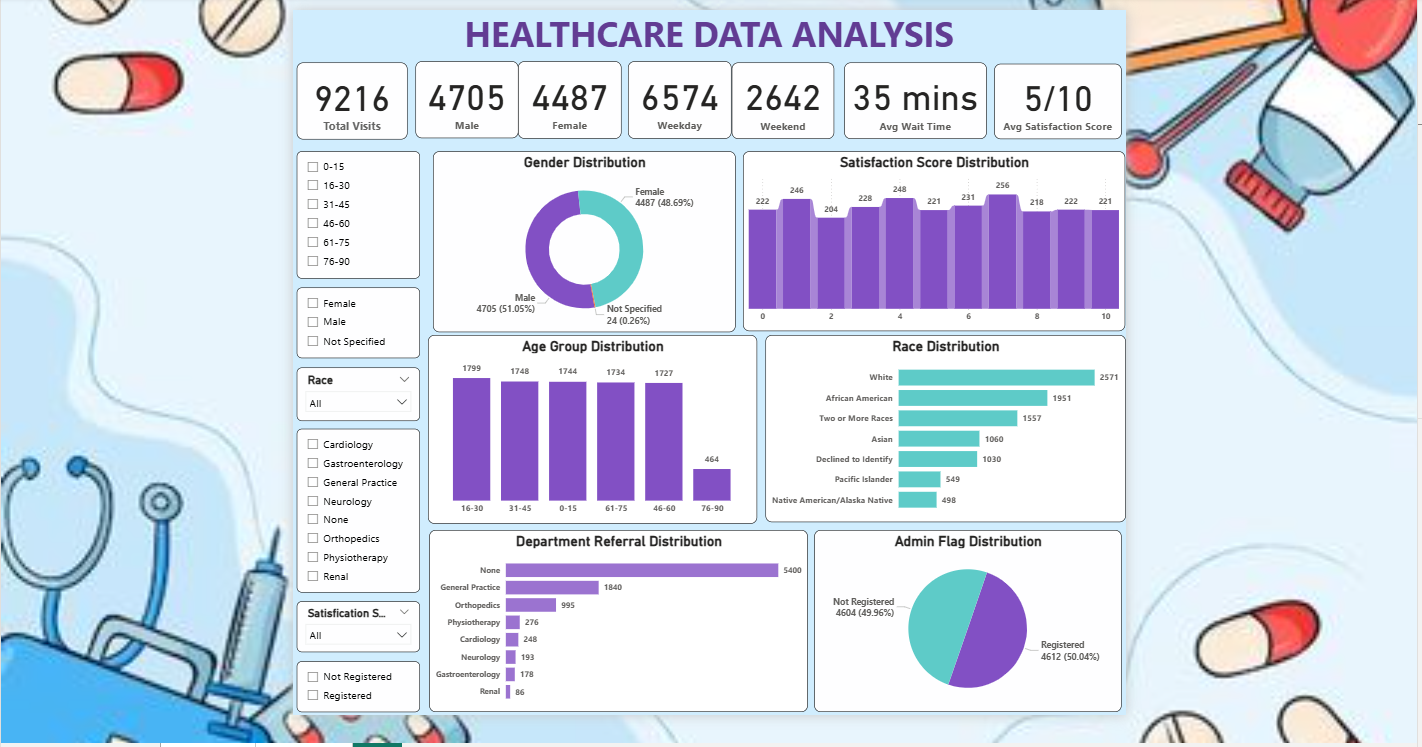

The dashboard page shown, as its layout file describes it:
{"tool":"powerbi","page":{"name":"Page 2","canvas":[1282,1086],"ordinal":1},"visuals":[{"type":"card","fields":{"Values":["Count(patient table.patient_id)"]},"box":[5.7,80,170,118.6],"z":0},{"type":"card","fields":{"Values":["CountNonNull(patient table.patient_gender)"]},"box":[187.7,79.8,158.6,118.6],"z":1000},{"type":"card","fields":{"Values":["CountNonNull(patient table.patient_gender)"]},"box":[347,79.7,159.4,118.8],"z":2000},{"type":"card","fields":{"Values":["date_time table.Avg Wait Time"]},"box":[847.8,81.2,218.8,117.4],"z":3000},{"type":"card","fields":{"Values":["date_time table.Avg Satisfication Score"]},"box":[1079.7,82.6,195.7,115.9],"z":4000},{"type":"card","fields":{"Values":["CountNonNull(date_time table.weekday/weekend)"]},"box":[515.9,79.7,159.4,118.8],"z":5000},{"type":"card","fields":{"Values":["CountNonNull(date_time table.weekday/weekend)"]},"box":[675.4,81.2,158,117.4],"z":6000},{"type":"textbox","box":[0,0,1280,74.3],"z":7000},{"type":"slicer","fields":{"Values":["patient table.patient_race"]},"box":[5.8,549.3,189.9,82.6],"z":8000},{"type":"slicer","fields":{"Values":["patient table.age_group"]},"box":[5.8,217.4,189.9,195.7],"z":9000},{"type":"slicer","fields":{"Values":["patient table.patient_gender"]},"box":[5.8,426.1,189.9,108.7],"z":10000},{"type":"slicer","fields":{"Values":["activity table.department_referral"]},"box":[5.8,644.9,189.9,252.2],"z":11000},{"type":"slicer","fields":{"Values":["activity table.satisfication_score"]},"box":[5.8,910.1,189.9,78.3],"z":12000},{"type":"lineStackedColumnComboChart","title":"Age Group Distribution","fields":{"Category":["patient table.age_bucket"],"Y":["CountNonNull(patient table.age_bucket)"]},"box":[208,500,506,290],"z":13000},{"type":"clusteredBarChart","title":"Race Distribution","fields":{"Category":["patient table.patient_race"],"Y":["CountNonNull(patient table.patient_race)"]},"box":[726,500,554,288],"z":14000},{"type":"donutChart","title":"Gender Distribution","fields":{"Category":["patient table.patient_gender"],"Y":["CountNonNull(patient table.patient_gender)"]},"box":[214.7,216.5,465.8,278.4],"z":15000},{"type":"clusteredBarChart","title":"Department Referral Distribution","fields":{"Category":["activity table.department_referral"],"Y":["CountNonNull(activity table.department_referral)"]},"box":[208.7,800,582.6,279.7],"z":16000},{"type":"columnChart","title":"Satisfaction Score Distribution","fields":{"Category":["activity table.satisfication_score"],"Y":["CountNonNull(activity table.satisfication_score)"]},"box":[691.5,216.5,587.8,276.6],"z":17000},{"type":"pieChart","title":"Admin Flag Distribution","fields":{"Category":["activity table.patient_admin_flag"],"Y":["CountNonNull(activity table.patient_admin_flag)"]},"box":[801.4,800,472.5,279.7],"z":18000},{"type":"slicer","fields":{"Values":["activity table.patient_admin_flag"]},"box":[5.8,1001.4,189.9,78.3],"z":19000}]}

Visuals, with their boxes on the page's 1282x1086 design canvas (x1, y1, x2, y2). These are canvas units, not pixel positions in the 1422x747 screenshot, which may show the page scaled, cropped or inside an application window:
card - Count(patient table.patient_id): crop(6, 80, 176, 199)
card - CountNonNull(patient table.patient_gender): crop(188, 80, 346, 198)
card - CountNonNull(patient table.patient_gender): crop(347, 80, 506, 198)
card - date_time table.Avg Wait Time: crop(848, 81, 1067, 199)
card - date_time table.Avg Satisfication Score: crop(1080, 83, 1275, 198)
card - CountNonNull(date_time table.weekday/weekend): crop(516, 80, 675, 198)
card - CountNonNull(date_time table.weekday/weekend): crop(675, 81, 833, 199)
textbox: crop(0, 0, 1280, 74)
slicer - patient table.patient_race: crop(6, 549, 196, 632)
slicer - patient table.age_group: crop(6, 217, 196, 413)
slicer - patient table.patient_gender: crop(6, 426, 196, 535)
slicer - activity table.department_referral: crop(6, 645, 196, 897)
slicer - activity table.satisfication_score: crop(6, 910, 196, 988)
"Age Group Distribution" lineStackedColumnComboChart: crop(208, 500, 714, 790)
"Race Distribution" clusteredBarChart: crop(726, 500, 1280, 788)
"Gender Distribution" donutChart: crop(215, 216, 680, 495)
"Department Referral Distribution" clusteredBarChart: crop(209, 800, 791, 1080)
"Satisfaction Score Distribution" columnChart: crop(692, 216, 1279, 493)
"Admin Flag Distribution" pieChart: crop(801, 800, 1274, 1080)
slicer - activity table.patient_admin_flag: crop(6, 1001, 196, 1080)
